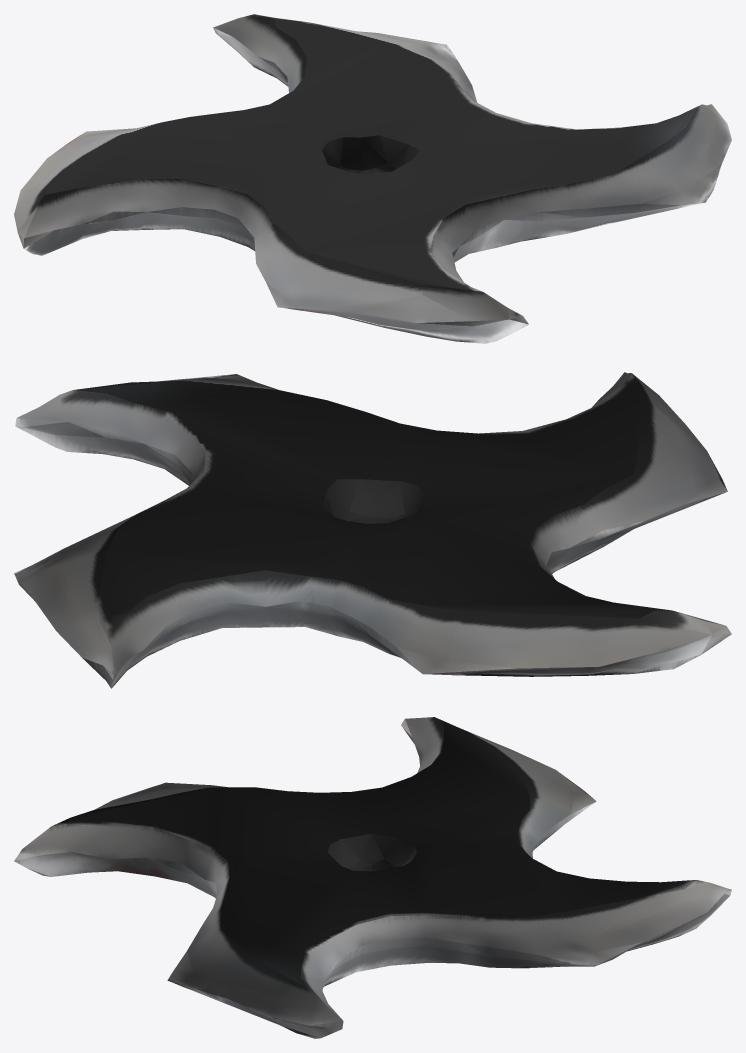
Rendered from Shuriken001o.FBX.
3 renders of one model, top to bottom at view 1: azimuth 30°, elevation 25°; view 2: azimuth 150°, elevation 25°; view 3: azimuth 270°, elevation 25°, orthographic. The views are drawn at different scales.
Parts seen in each view (by area): view 1: sur2; view 2: sur2; view 3: sur2.
Part boxes in pixels (bbox=[...]): sur2: bbox=[14, 14, 731, 343]; sur2: bbox=[14, 372, 731, 688]; sur2: bbox=[14, 717, 731, 1038].
Size of the model in its own units: 0.5183 by 0.0424 by 0.5198.
